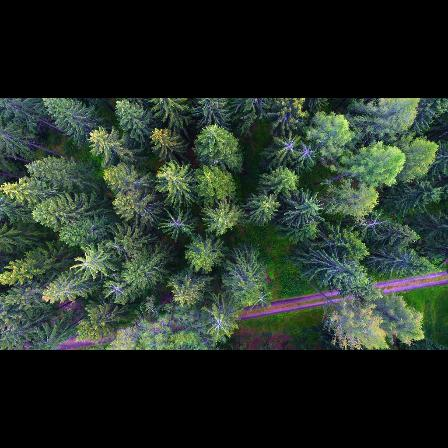Sick: (159, 210, 193, 242), (204, 310, 238, 340), (269, 134, 304, 158), (249, 288, 276, 311), (294, 145, 321, 167), (104, 279, 130, 299)
